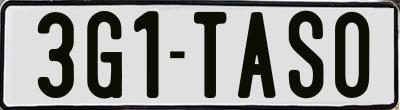0: (332, 9, 367, 99)
1: (132, 11, 161, 103)
3: (38, 11, 78, 102)
A: (235, 10, 274, 101)
G: (86, 11, 122, 99)
S: (289, 10, 328, 102)
T: (191, 10, 227, 97)
